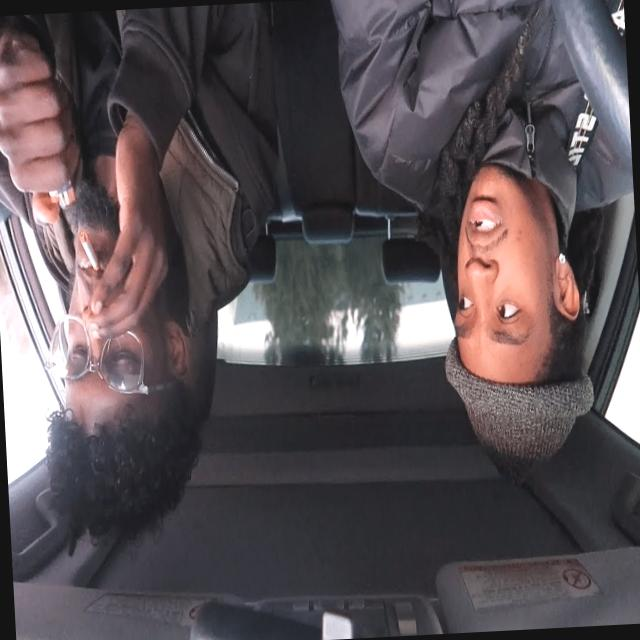cigarette: (80, 224, 101, 268)
